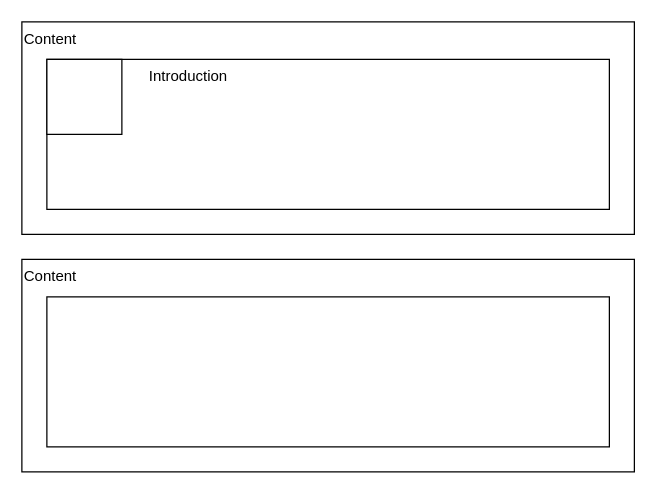
This 656x494 diagram has some shape labels left out. The centre of each missing label's shape, as x and y in pixels:
"Logo" belongs at (x=84, y=96).
"Other Pages" belongs at (x=327, y=371).
